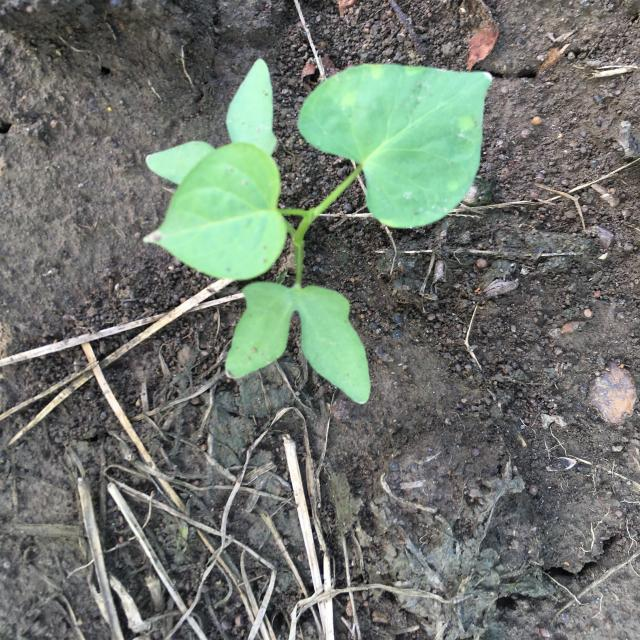MorningGlory: (143, 59, 494, 404)
